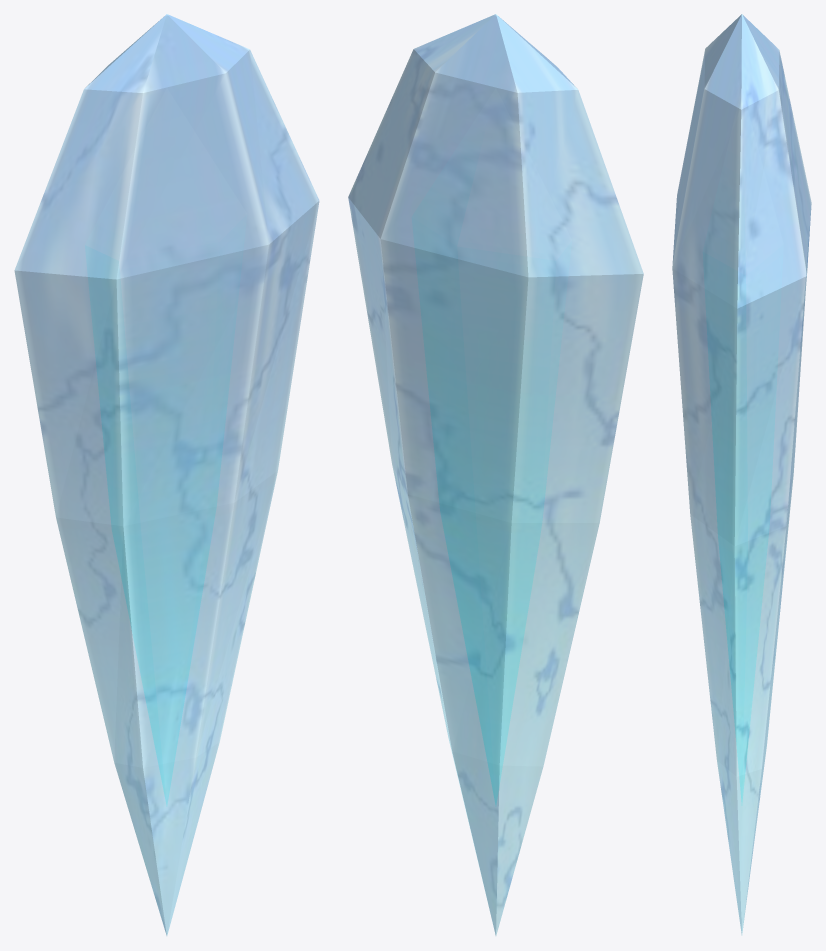
File: cavaleira_lamina_v01.glb
The picture shows the model from 3 angles, left to right: view 1: azimuth 30°, elevation 25°; view 2: azimuth 150°, elevation 25°; view 3: azimuth 270°, elevation 25°; orthographic projection.
Visible parts, largest first — view 1: cavaleira_lamina_cristal, cavaleira_lamina_nucleo; view 2: cavaleira_lamina_cristal, cavaleira_lamina_nucleo; view 3: cavaleira_lamina_cristal, cavaleira_lamina_nucleo.
Part boxes in pixels (box(x1,y1,x2,y2)): cavaleira_lamina_cristal: box(14, 14, 319, 935); cavaleira_lamina_nucleo: box(85, 89, 246, 804); cavaleira_lamina_cristal: box(348, 14, 643, 935); cavaleira_lamina_nucleo: box(412, 89, 571, 804); cavaleira_lamina_cristal: box(672, 14, 811, 935); cavaleira_lamina_nucleo: box(703, 90, 783, 802).
Size of the model in its own units: 0.1158 by 0.34 by 0.0465.
Materials: 2 (2 with a texture image).
